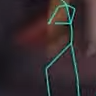hacks_2: (44, 1, 80, 96)
